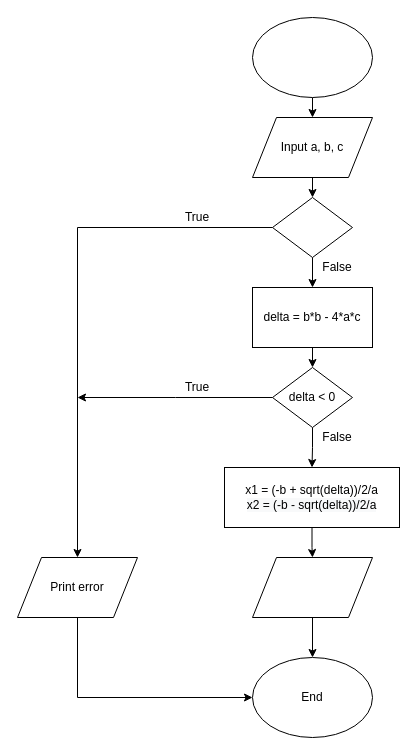
The diagram is 417 pixels wide and 755 high, and some of its shapes have lost their labels. Each missing label, with the centre of its shape:
a = 0: pixel 312 227
Print x1, x2: pixel 312 587
Start: pixel 312 57
